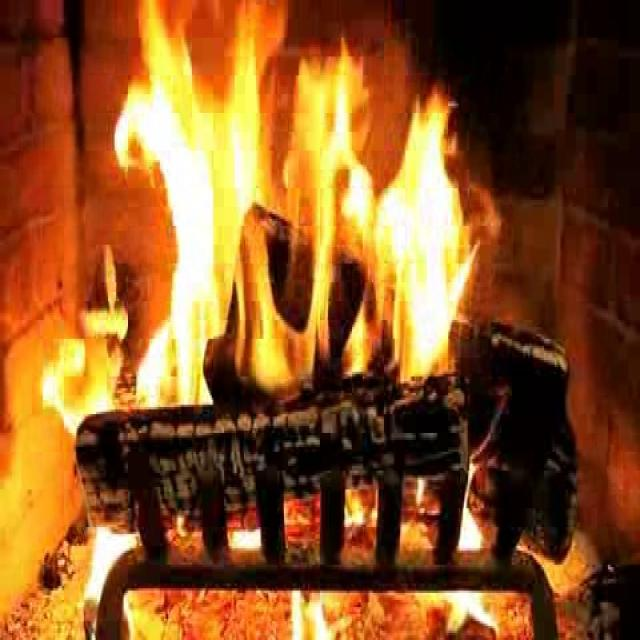fire: (113, 21, 496, 420)
